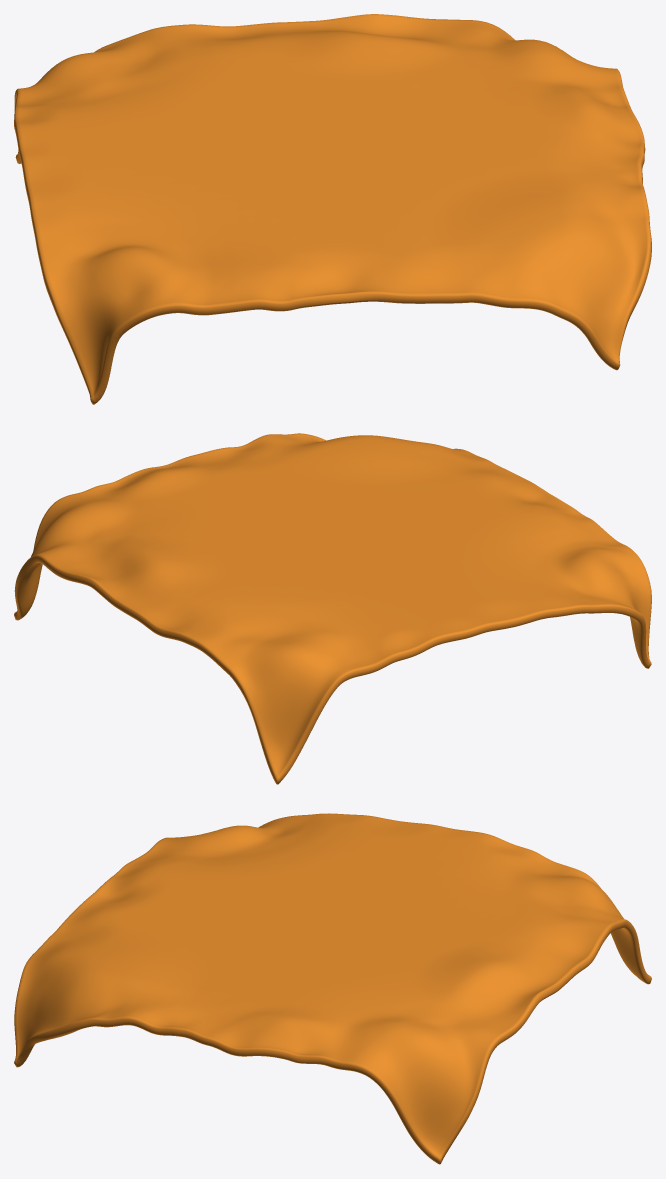
The model's file is cheedar.glb.
3 renders of one model, top to bottom at view 1: azimuth 30°, elevation 25°; view 2: azimuth 150°, elevation 25°; view 3: azimuth 270°, elevation 25°, orthographic. The views are drawn at different scales.
Parts seen in each view (by area): view 1: cheedar; view 2: cheedar; view 3: cheedar.
Boxes of the visible parts, left/top/right/bottom form: cheedar: left=14, top=14, right=651, bottom=404; cheedar: left=14, top=433, right=651, bottom=784; cheedar: left=14, top=813, right=651, bottom=1164.
Size of the model in its own units: 2.03 by 0.441 by 2.07.
